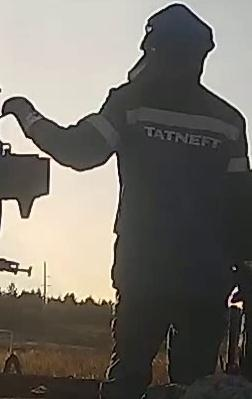gloves: (0, 96, 47, 135)
vest: (105, 88, 251, 259)
